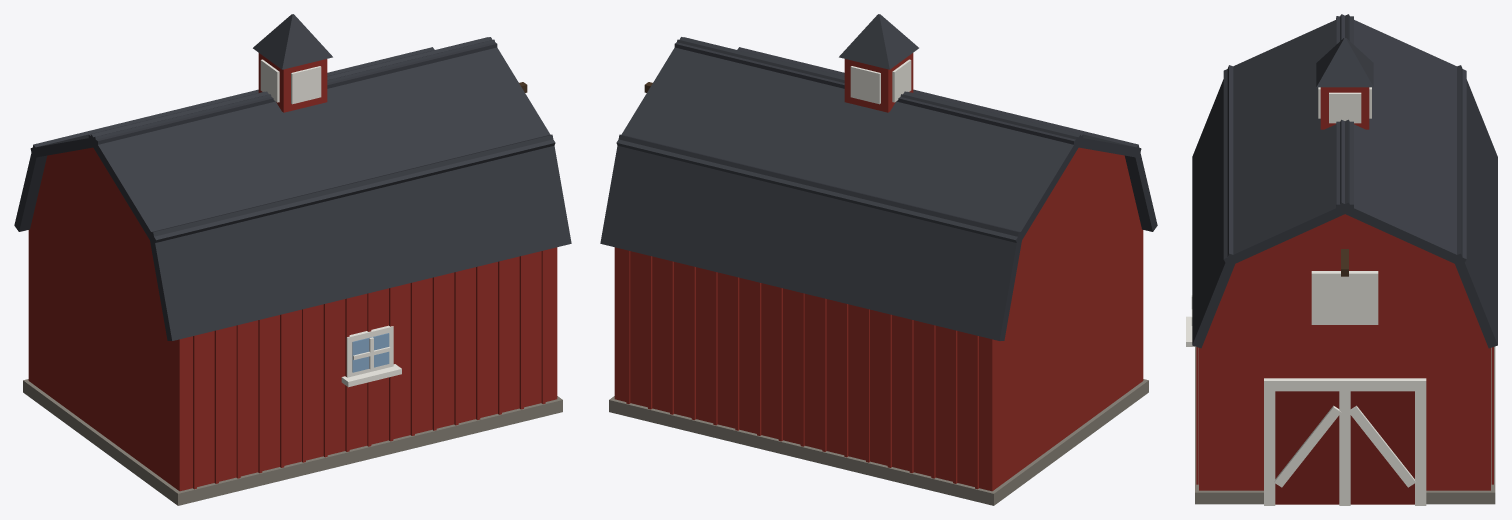
File: barn.glb
The picture shows the model from 3 angles, left to right: view 1: azimuth 30°, elevation 25°; view 2: azimuth 150°, elevation 25°; view 3: azimuth 270°, elevation 25°; orthographic projection. The views are drawn at different scales.
Parts seen in each view (by area): view 1: part-roof, part-barn-red, part-stone, part-trim, part-glass; view 2: part-roof, part-barn-red, part-stone, part-trim; view 3: part-roof, part-barn-red, part-trim, part-barn-door, part-stone.
Part boxes in pixels (x1,y1,x2,y2): part-roof: [14, 14, 571, 340]; part-barn-red: [28, 53, 557, 491]; part-stone: [23, 379, 562, 505]; part-trim: [260, 59, 401, 387]; part-glass: [352, 333, 389, 372]; part-roof: [600, 14, 1157, 340]; part-barn-red: [614, 53, 1143, 491]; part-stone: [609, 379, 1148, 505]; part-trim: [850, 59, 911, 104]; part-roof: [1192, 14, 1497, 348]; part-barn-red: [1196, 87, 1493, 490]; part-trim: [1186, 87, 1426, 505]; part-barn-door: [1275, 391, 1414, 504]; part-stone: [1195, 346, 1495, 504].
Size of the model in its own units: 131 by 112 by 84.57.
